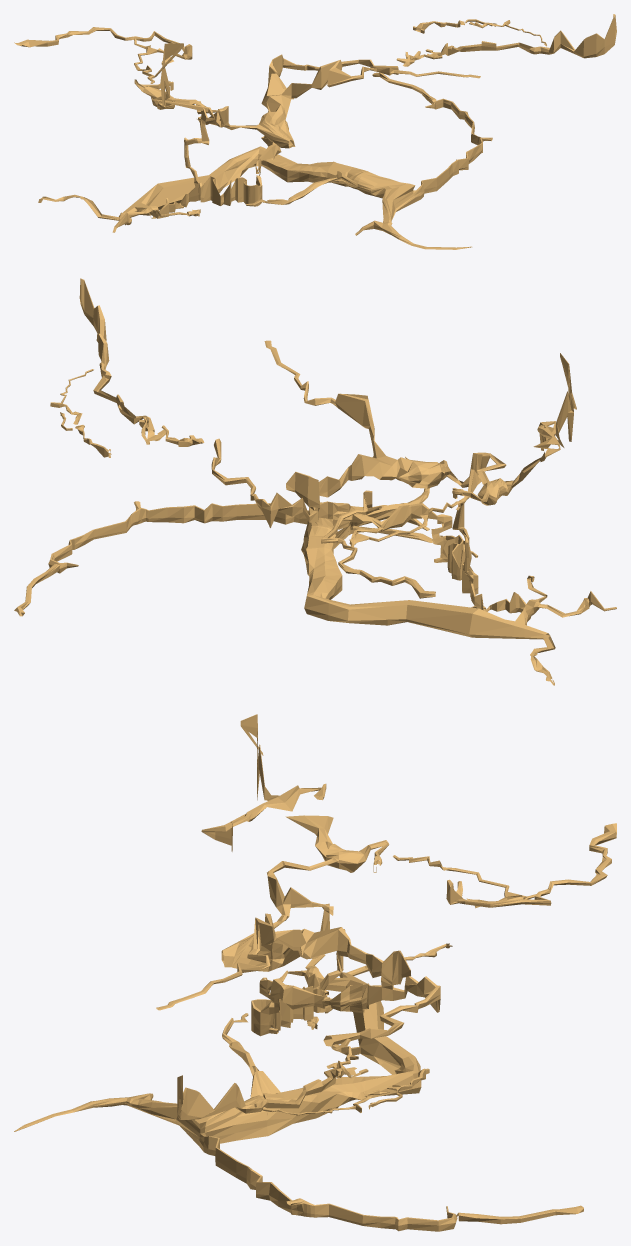
File: ireby.glb
3 renders of one model, top to bottom at view 1: azimuth 30°, elevation 25°; view 2: azimuth 150°, elevation 25°; view 3: azimuth 270°, elevation 25°, orthographic. The views are drawn at different scales.
Visible parts, largest first — view 1: Export; view 2: Export; view 3: Export.
Boxes of the visible parts, x1=… form: Export: x1=14, y1=14, x2=616, y2=249; Export: x1=14, y1=278, x2=616, y2=685; Export: x1=14, y1=714, x2=616, y2=1231.
Size of the model in its own units: 207 by 83.58 by 162.
